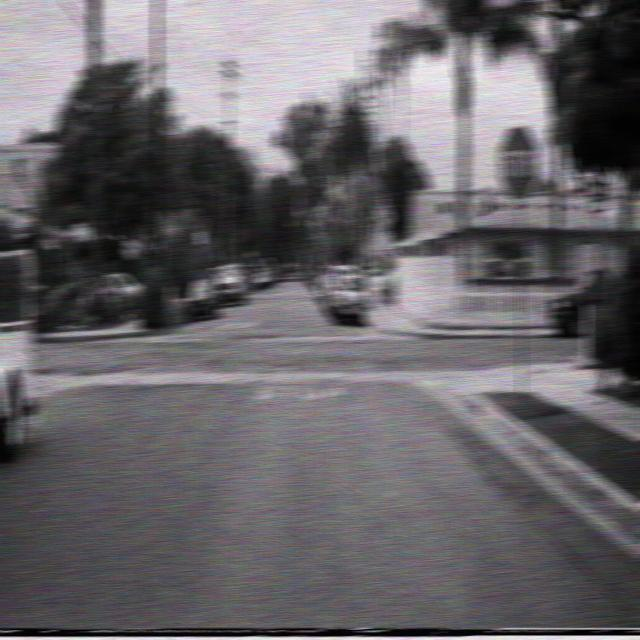stop: (496, 124, 540, 198)
